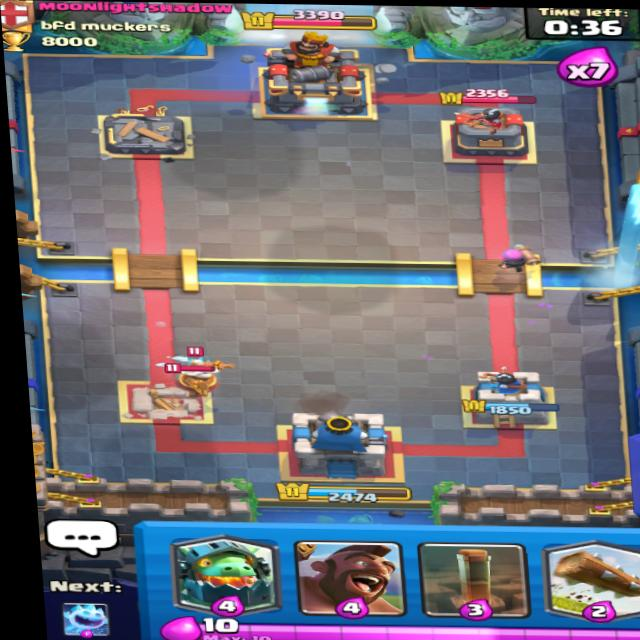ice-spirit: (172, 355, 223, 373)
monk: (158, 359, 243, 403)
